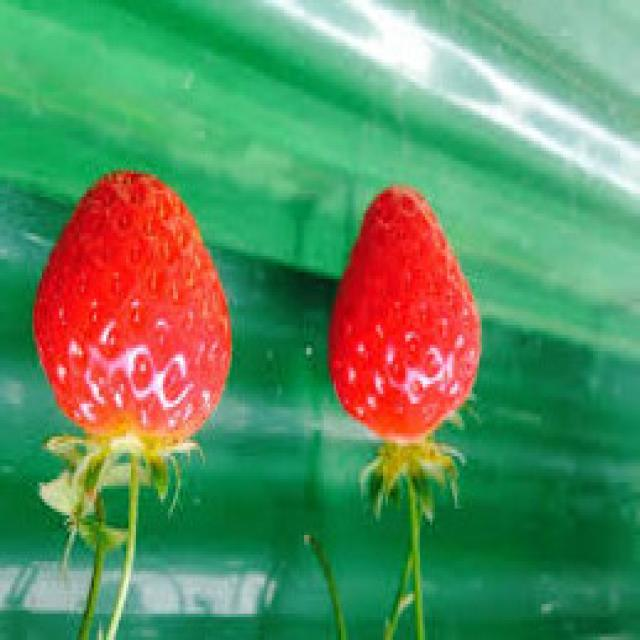mature: (32, 168, 230, 439), (328, 187, 482, 442)
